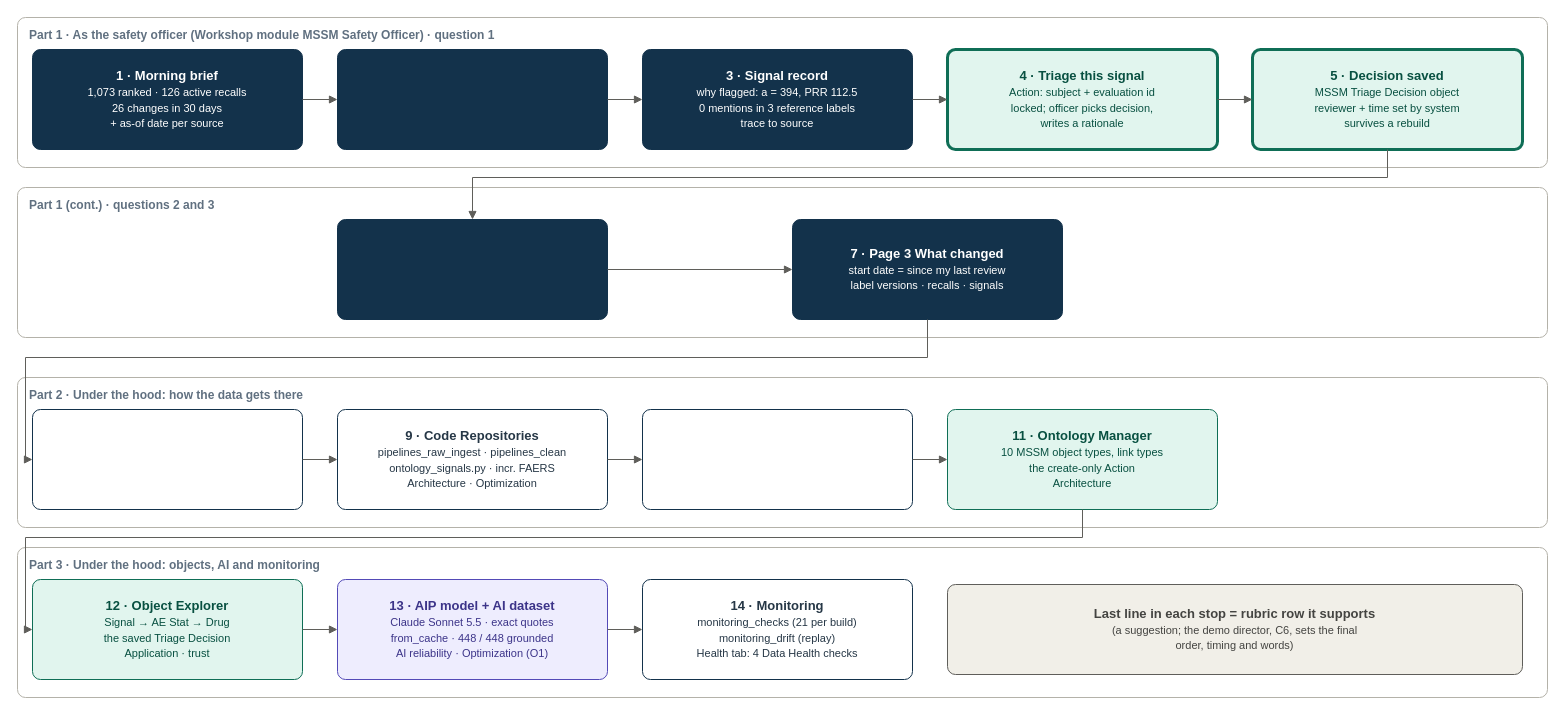
The diagram is 1565 pixels wide and 715 high, and some of its shapes have lost their labels. Here are the shapes that lost their labels. From the top down, the centre of each, then its label:
At (472,99): "2 · Page 1 Not in label drug filter: semaglutide → NAION is rank 1".
At (472,269): "6 · Page 2 Recalls active · class · linked drug detail panel + openFDA record".
At (167,459): "8 · Data Lineage raw → clean → curated graph identity resolved once Architecture".
At (777,459): "10 · A dataset + SQL ontology_signal_signals counts and key checks Data judgment".
